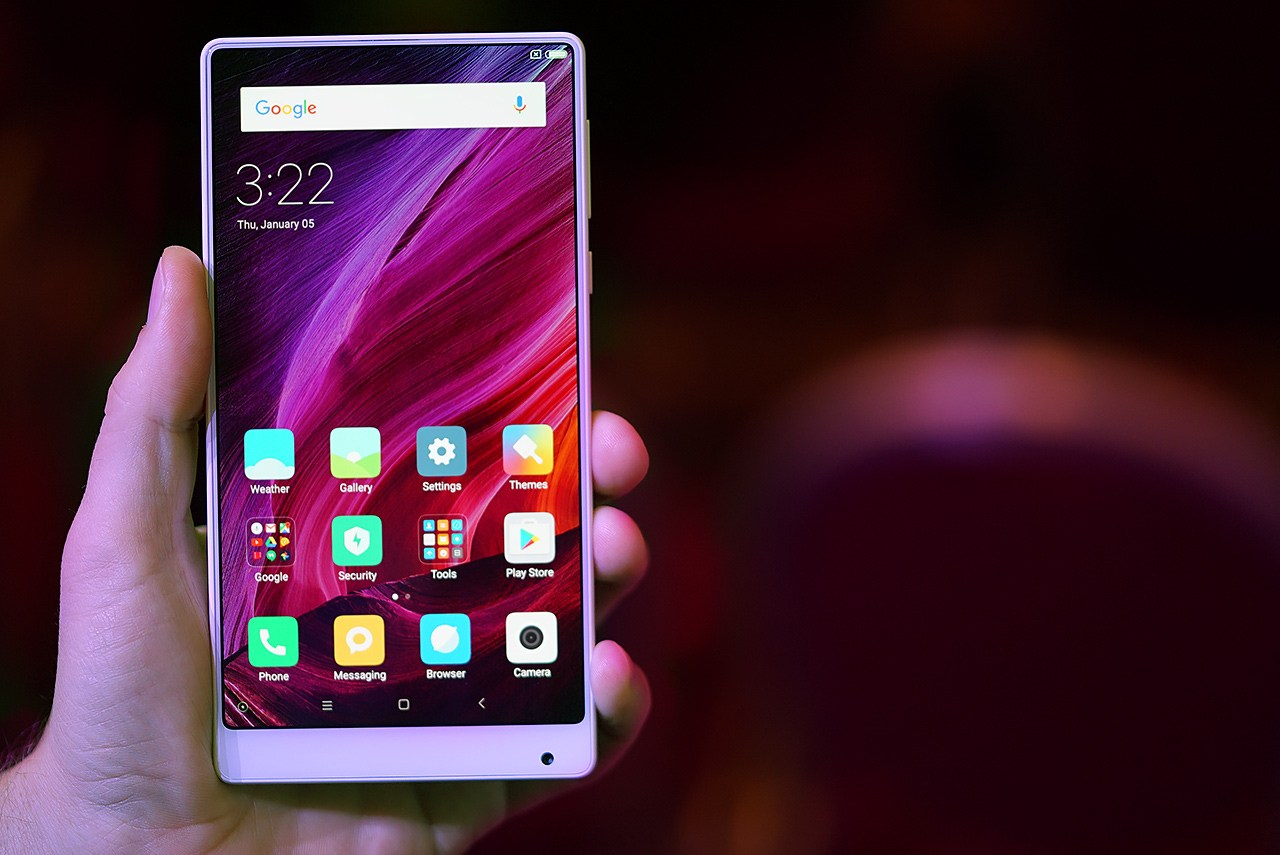smartphone: (199, 30, 599, 788)
